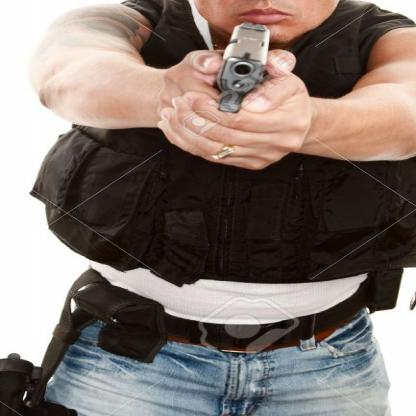gun: (193, 16, 287, 131)
